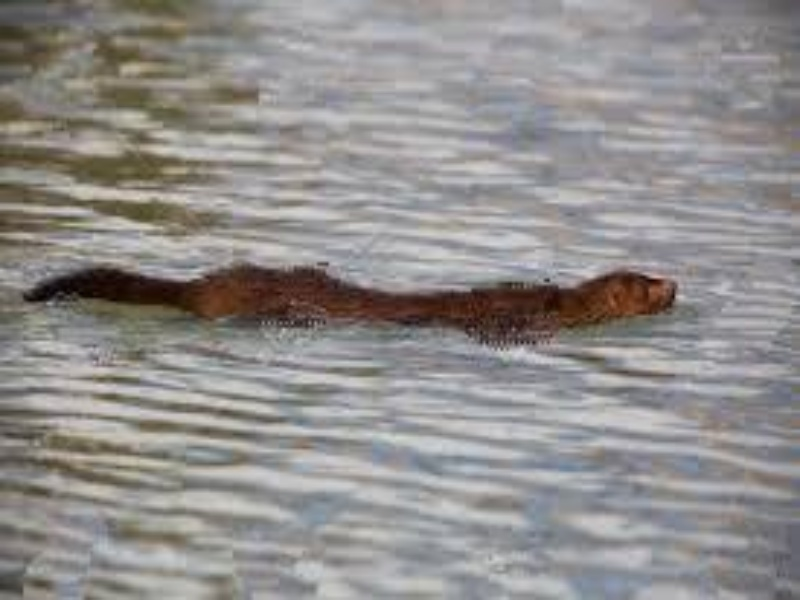minkish: (19, 262, 683, 347)
